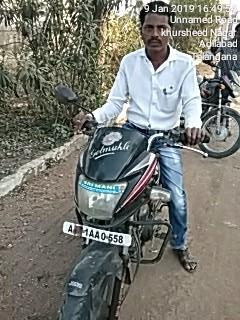plate: (62, 222, 135, 250)
